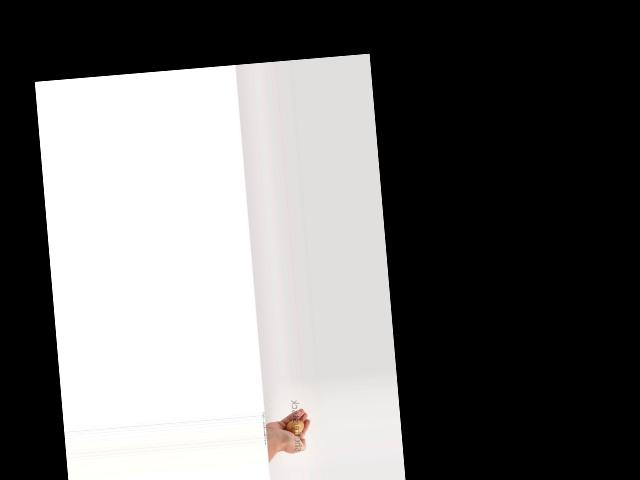egg: (285, 419, 304, 435)
